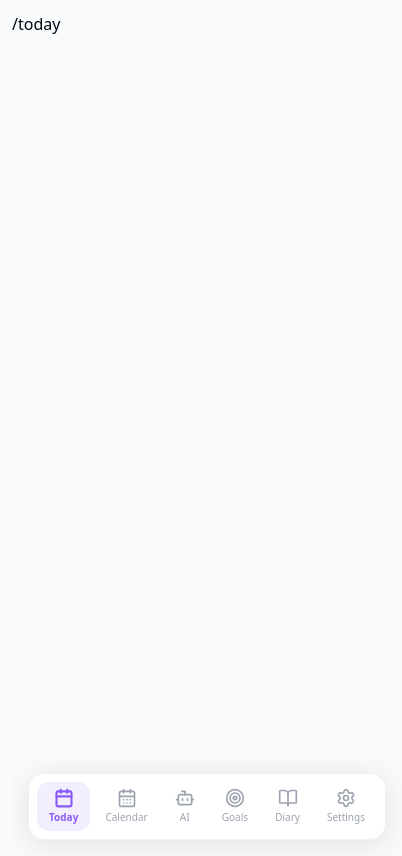
Test: BottomNavigation Component › should navigate to correct routes on click
Click the button "Calendar": (126, 806) [93,782,160,831]
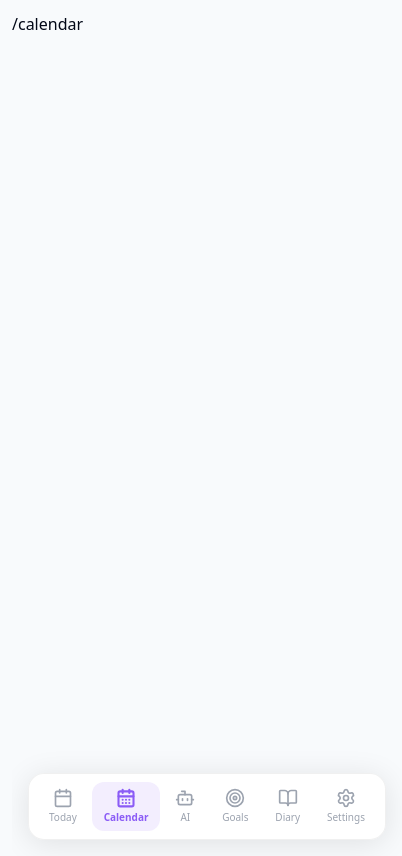
Check: the text with test id "location" reads "/calendar", box [12,13,83,35]
Click the button "AI": (185, 806) [163,782,207,831]
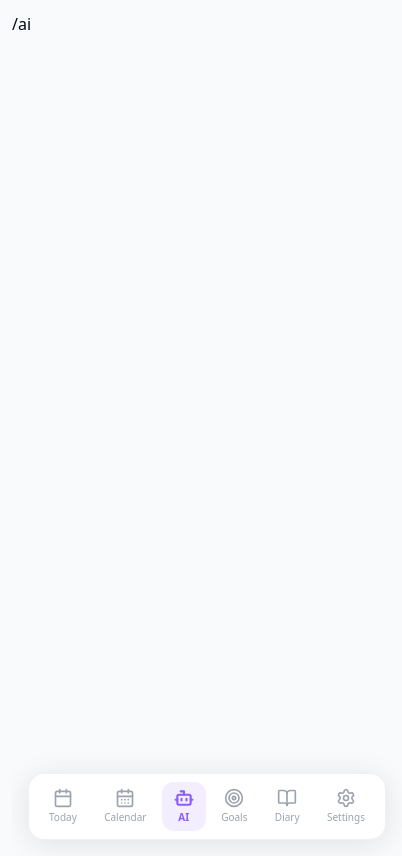
Check: the text with test id "location" reads "/ai", box [12,13,31,35]
Click the button "Goals": (234, 806) [209,782,259,831]
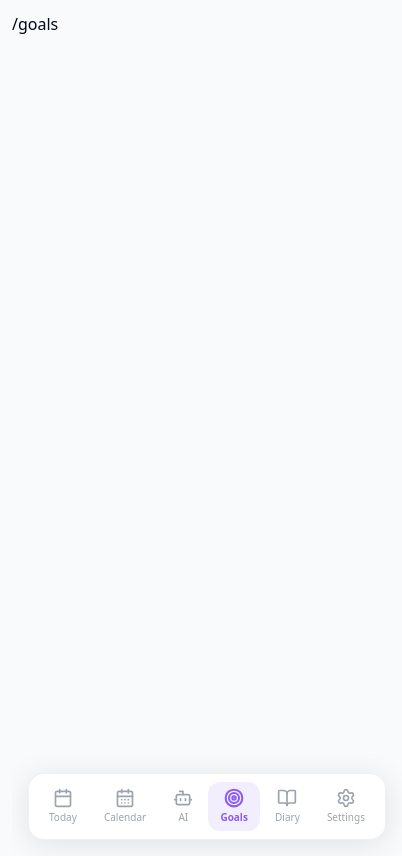
Check: the text with test id "location" reads "/goals", box [12,13,58,35]
Click the button "Settings": (346, 806) [315,782,377,831]
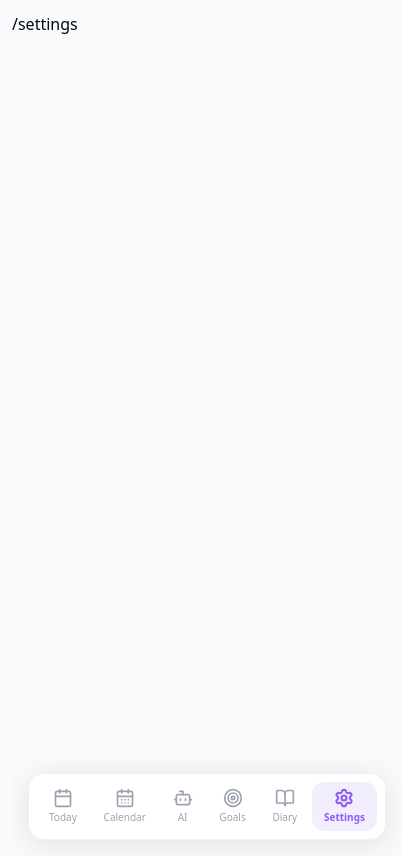
Check: the text with test id "location" reads "/settings", box [12,13,78,35]
